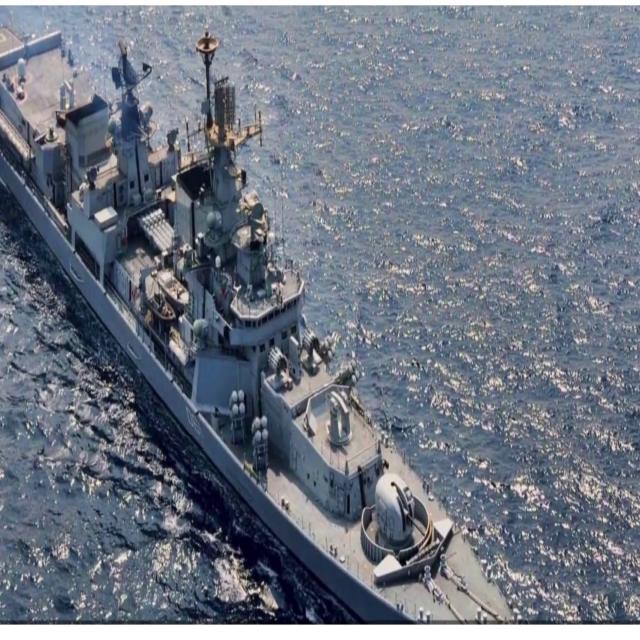OCR: (183, 401, 209, 449)
